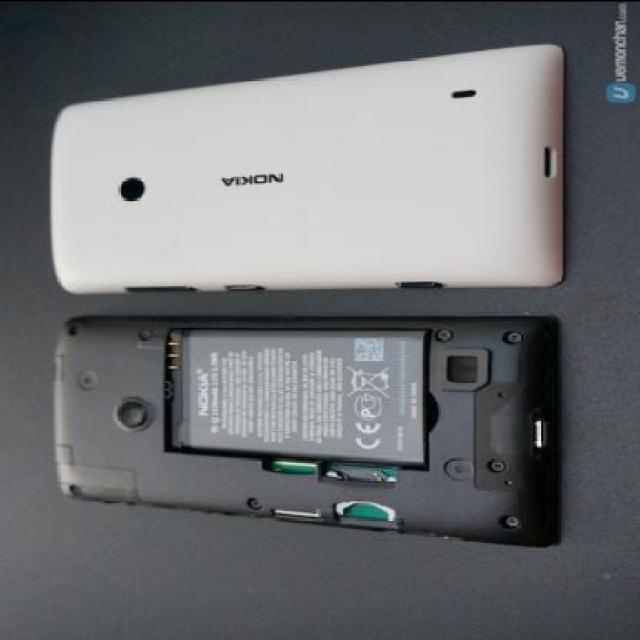phone: (31, 292, 567, 541)
